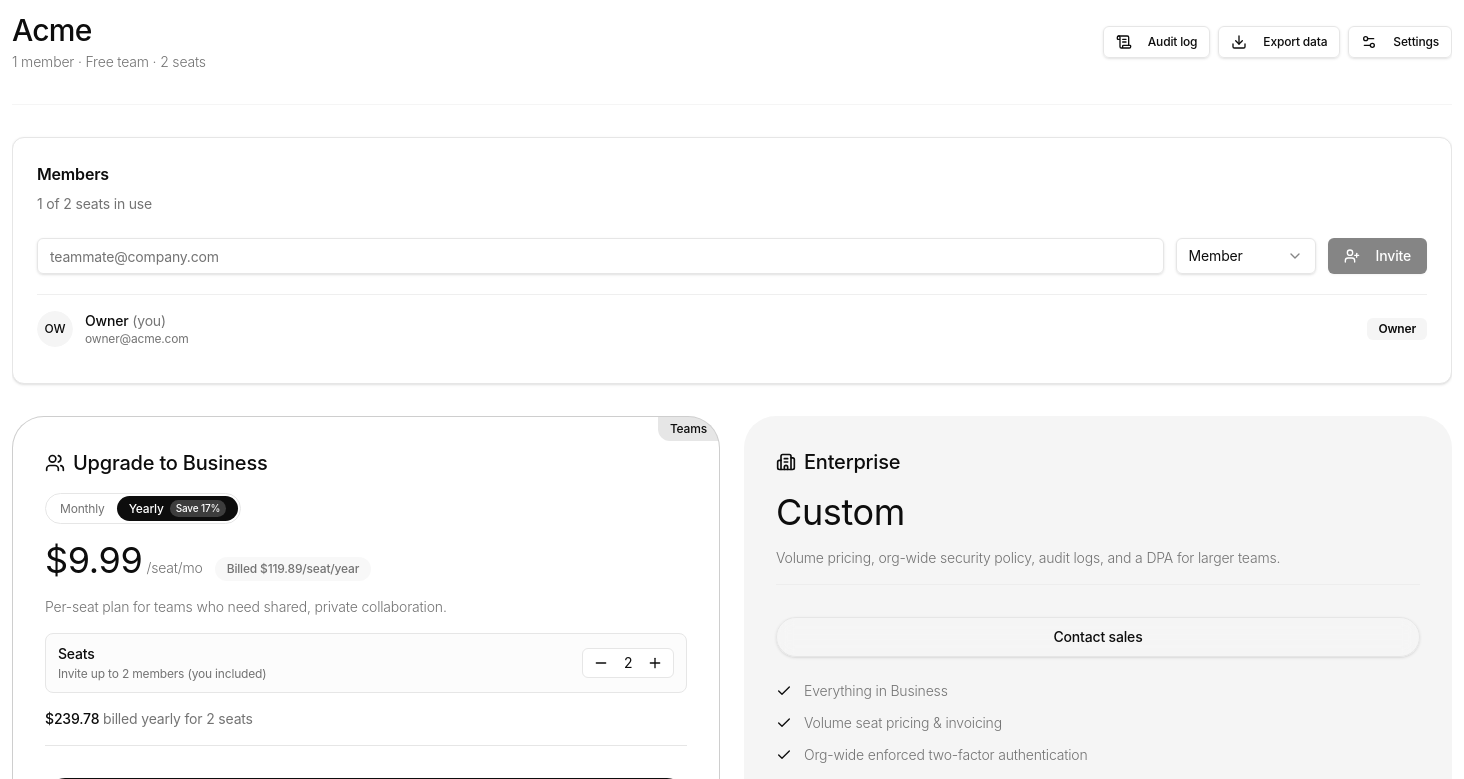
Test: Business upgrade card › lets the owner raise the seat count and recomputes the total
The width and height of the screenshot is (1464, 779).
Click the button named "Add a seat". click: (655, 663)
box: [641, 649, 669, 677]
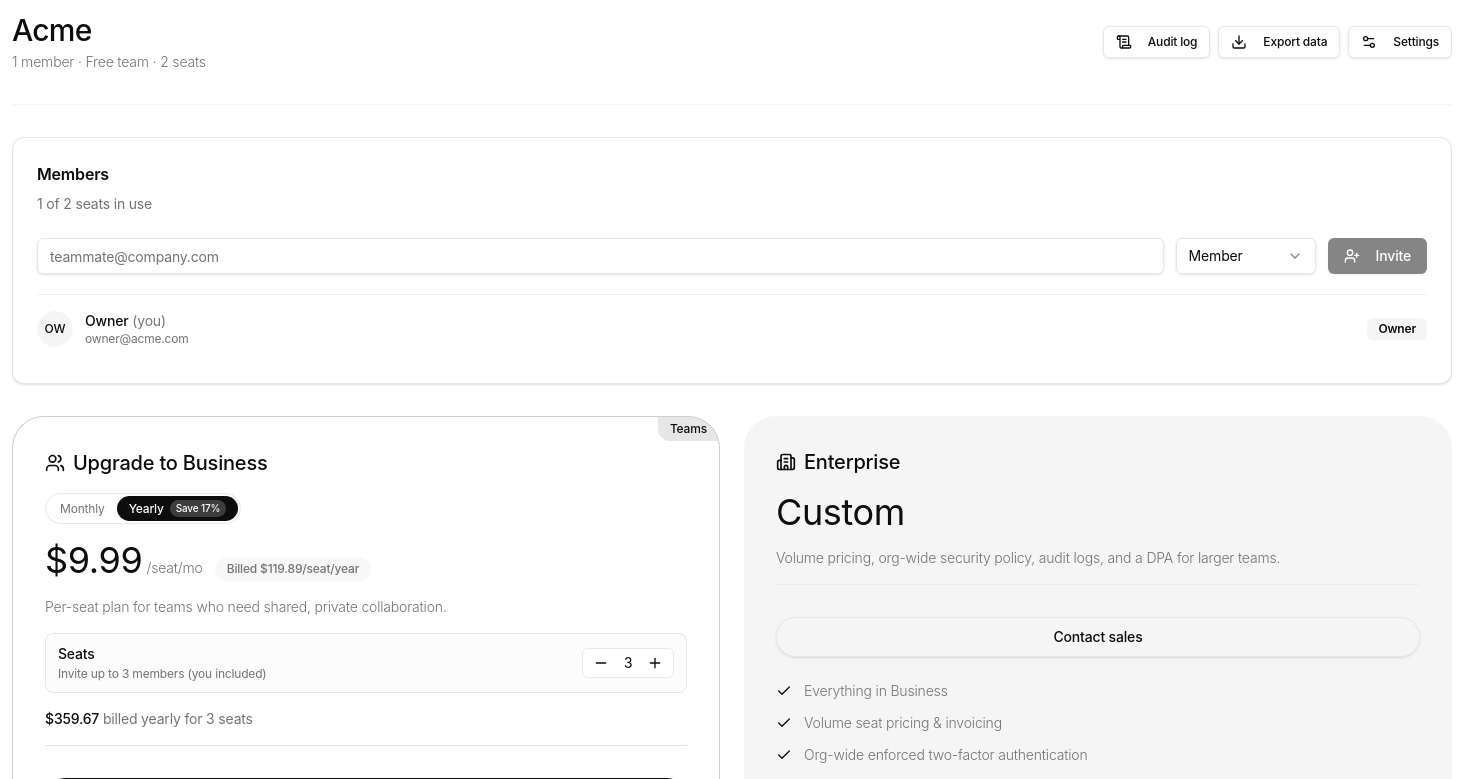
Now the text "Invite up to 3 members (you included)" is shown, box [58, 666, 266, 682]
